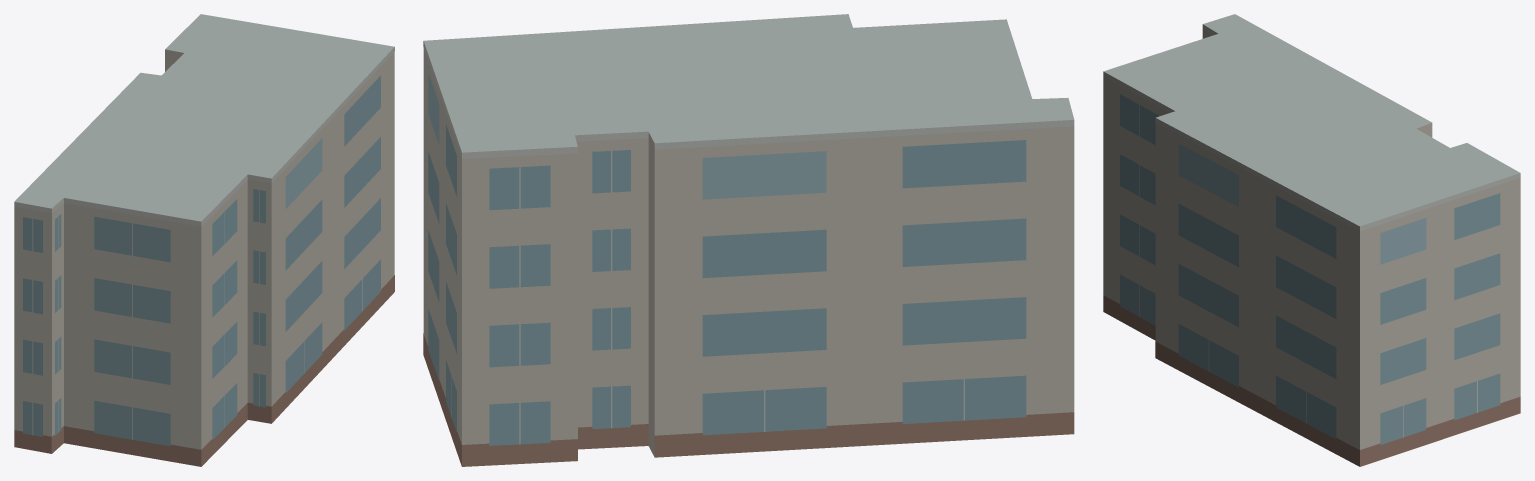
File: survey-upis-32995785.glb
3 renders of one model, left to right at view 1: azimuth 30°, elevation 25°; view 2: azimuth 150°, elevation 25°; view 3: azimuth 270°, elevation 25°, orthographic. The views are drawn at different scales.
Visible parts, largest first — view 1: survey-upis-32995785.tmp; view 2: survey-upis-32995785.tmp; view 3: survey-upis-32995785.tmp.
Boxes of the visible parts, x1=… form: survey-upis-32995785.tmp: x1=14, y1=14, x2=394, y2=466; survey-upis-32995785.tmp: x1=423, y1=14, x2=1074, y2=466; survey-upis-32995785.tmp: x1=1103, y1=14, x2=1520, y2=466.
Size of the model in its own units: 22.47 by 11.85 by 18.65.
